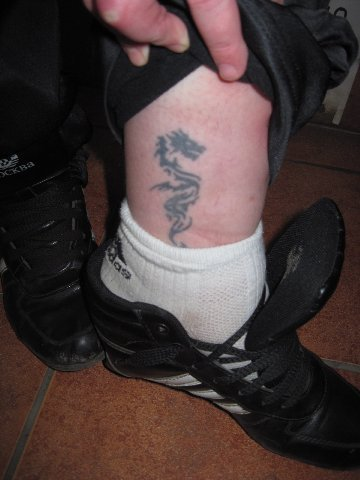tatu6_drakon: (135, 120, 225, 249)
